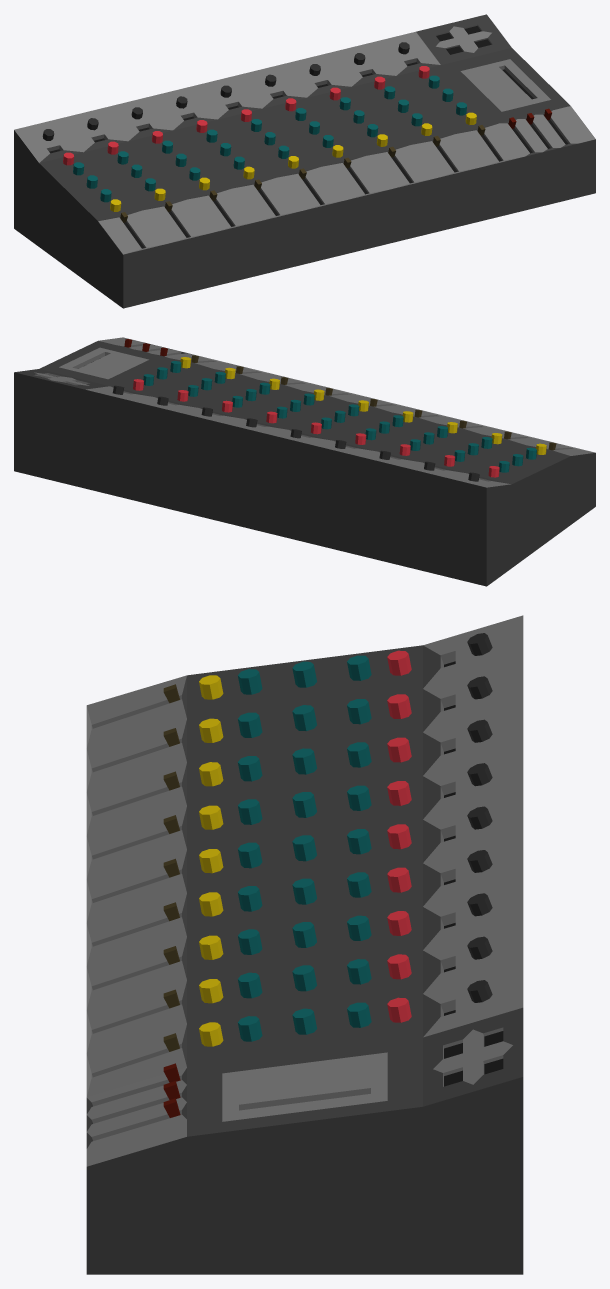
Rendered from Mixing Board.fbx.
3 views of the same model, one above another, from view 1: azimuth 30°, elevation 25°; view 2: azimuth 150°, elevation 25°; view 3: azimuth 270°, elevation 25° (orthographic). The views are drawn at different scales.
Parts seen in each view (by area): view 1: Mixing Board, Channel Sliders; view 2: Mixing Board, Channel Sliders; view 3: Mixing Board, Channel Sliders.
Boxes of the visible parts, x1,y1,x2,y2 form: Mixing Board: (14, 14, 595, 308); Channel Sliders: (120, 125, 485, 222); Mixing Board: (14, 337, 595, 586); Channel Sliders: (191, 355, 556, 450); Mixing Board: (86, 615, 523, 1274); Channel Sliders: (163, 684, 179, 1051).
Bounding box in the file's own units: 1000 × 203 × 400.
